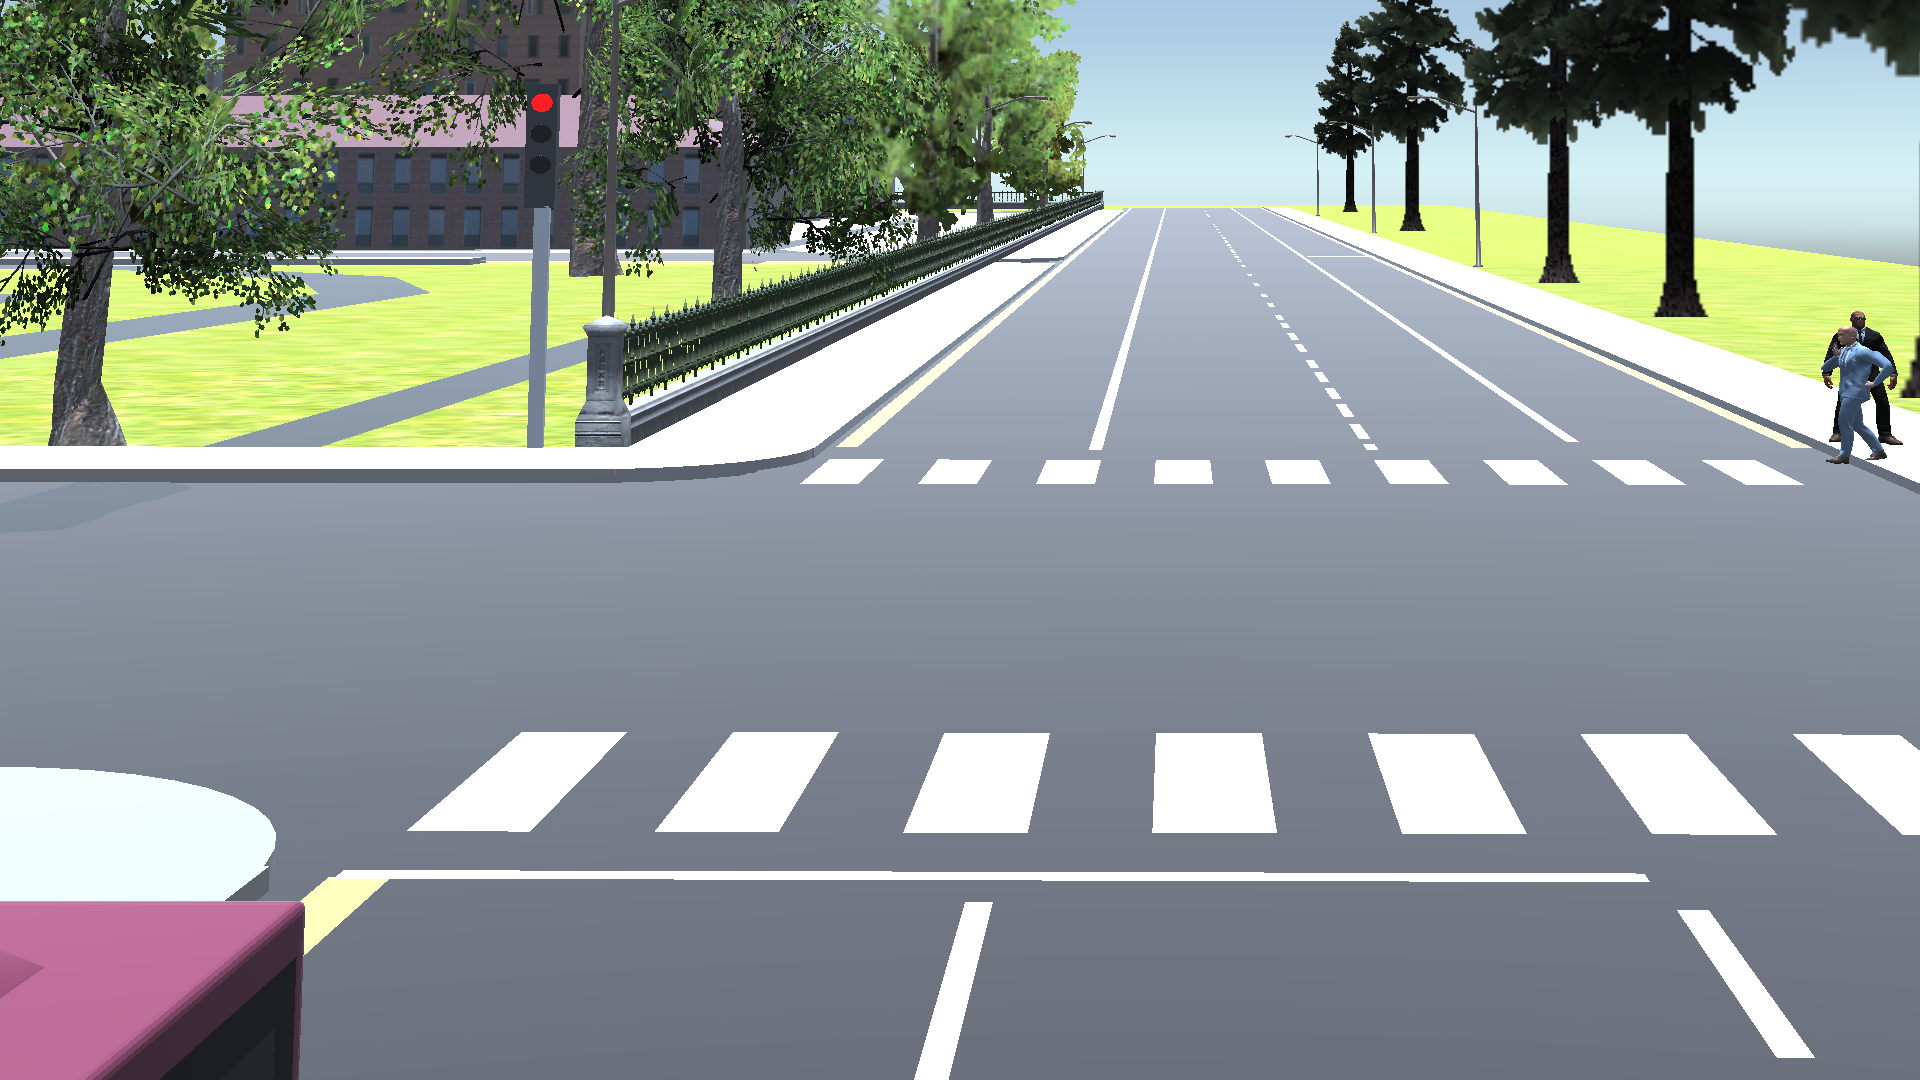pedestrian: (1816, 327, 1893, 477), (1851, 305, 1900, 456)
